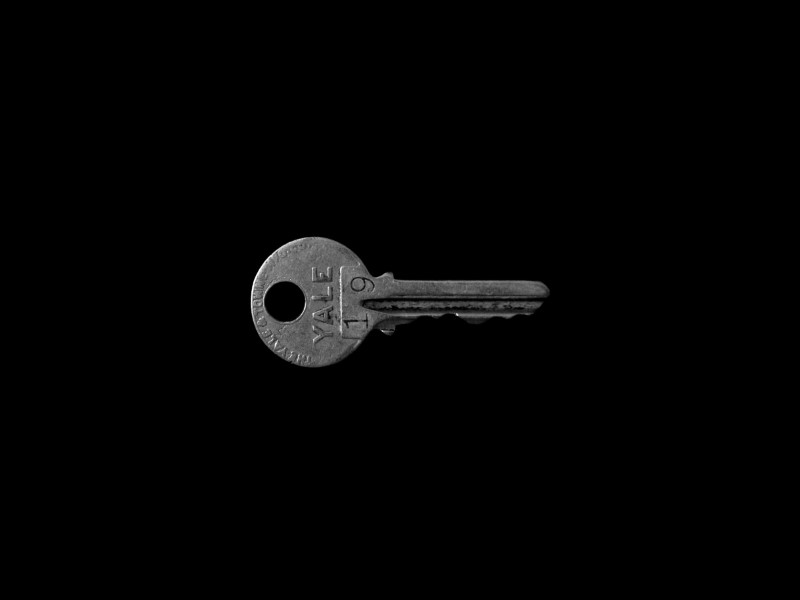key: (247, 236, 555, 371)
